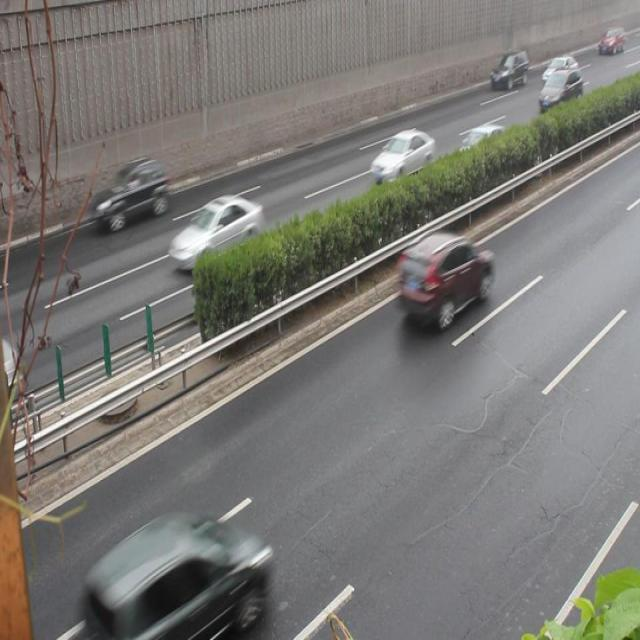car: (90, 515, 272, 640), (395, 231, 488, 327), (167, 194, 263, 272), (89, 155, 169, 231), (370, 131, 434, 185), (448, 126, 512, 180), (538, 67, 583, 111), (489, 51, 528, 91)
